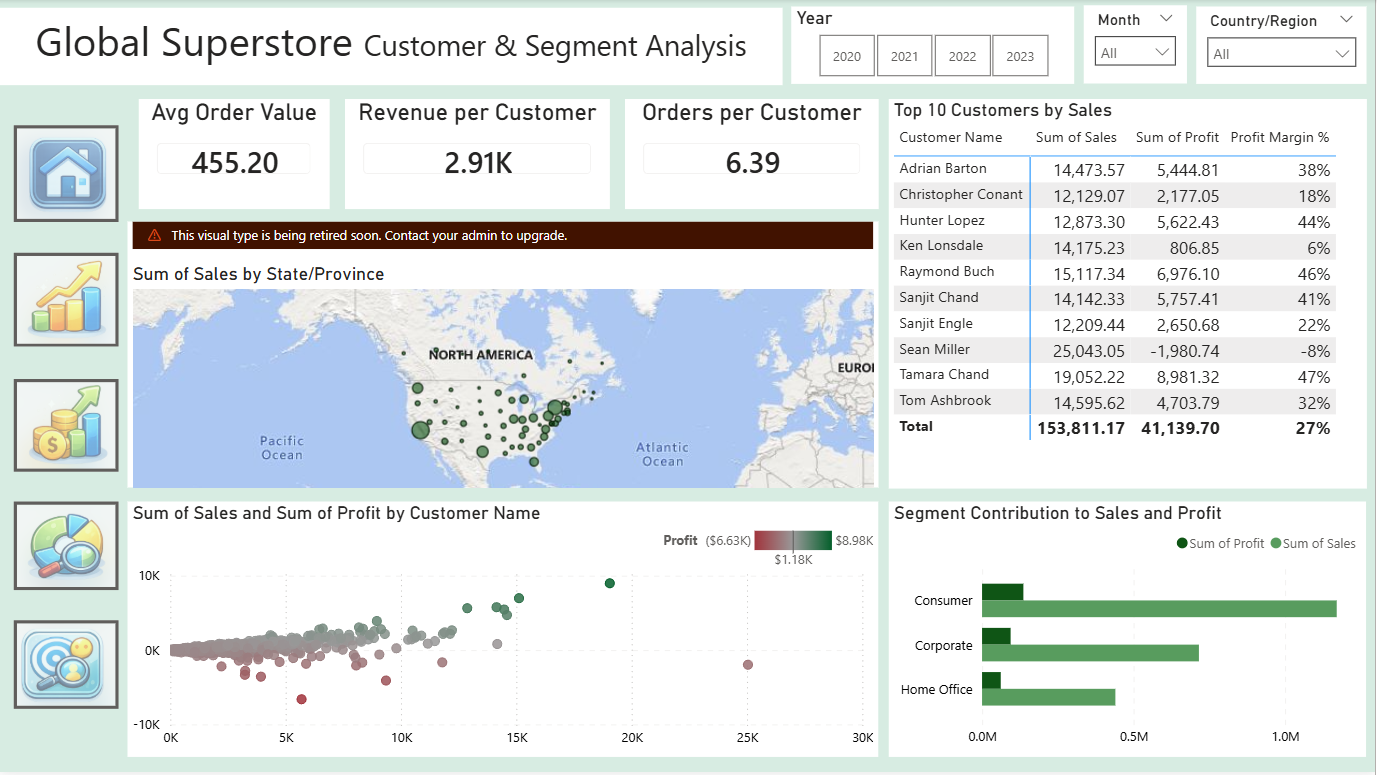

What the dashboard file says about the page in this screenshot:
{"tool":"powerbi","page":{"name":"Page 4","canvas":[1280,720],"ordinal":4},"visuals":[{"type":"pivotTable","title":"Top 10 Customers by Sales","fields":{"Values":["Sum(orders.Sales)","Sum(orders.Profit)","Key_Measure.Profit Margin %"],"Rows":["orders.Customer Name"]},"box":[826.2,92.5,445,362.5],"z":0},{"type":"map","fields":{"Category":["orders.State/Province"],"Size":["Sum(orders.Sales)"]},"box":[118.8,207.5,698.8,247.5],"z":1000},{"type":"scatterChart","fields":{"X":["Sum(orders.Sales)"],"Y":["Sum(orders.Profit)"],"Category":["orders.Customer Name"]},"box":[118.8,467.5,698.8,237.5],"z":2000},{"type":"textbox","box":[0,7.8,727.6,71.8],"z":3000},{"type":"slicer","fields":{"Values":["orders.Country/Region"]},"box":[1112.8,7.6,158.6,71.8],"z":4000},{"type":"slicer","fields":{"Values":["DateTable.Month"]},"box":[1008.3,6.3,95.7,73],"z":5000},{"type":"slicer","title":"Year","fields":{"Values":["DateTable.Year"]},"box":[736.4,7.6,263.1,71.8],"z":6000},{"type":"group","id":"g1","title":"Group 1","box":[12.5,117.5,97.5,542.5],"z":7000},{"type":"cardVisual","title":"Avg Order Value","fields":{"Data":["Key_Measure.Avg Order Value"]},"box":[128.8,92.5,177.5,102.5],"z":8000},{"type":"cardVisual","title":"Revenue per Customer","fields":{"Data":["Key_Measure.Avg Revenue per Customer"]},"box":[321.2,92.5,246.2,102.5],"z":9000},{"type":"actionButton","box":[12.5,117.5,97.5,90],"z":9000,"group":"g1"},{"type":"cardVisual","title":"Orders per Customer","fields":{"Data":["Key_Measure.Orders per Customer"]},"box":[581.2,92.5,236.2,102.5],"z":10000},{"type":"actionButton","box":[12.5,236.3,97.5,87.5],"z":10000,"group":"g1"},{"type":"actionButton","box":[12.5,353.7,97.5,86.2],"z":11000,"group":"g1"},{"type":"clusteredBarChart","title":"Segment Contribution to Sales and Profit","fields":{"Y":["Sum(orders.Profit)","Sum(orders.Sales)"],"Category":["orders.Segment"]},"box":[826.7,467.4,444.2,237.2],"z":11000},{"type":"actionButton","box":[12.5,467.5,97.5,82.5],"z":12000,"group":"g1"},{"type":"actionButton","box":[12.5,577.5,97.5,82.5],"z":13000,"group":"g1"}]}

Visuals, with their boxes in screenshot pixels (x1, y1, x2, y2), scaled from the page's 1280x720 canvas onto the 1377x775 screenshot:
"Top 10 Customers by Sales" pivotTable: (889, 100, 1368, 490)
map - orders.State/Province x Sum(orders.Sales): (128, 223, 880, 490)
scatterChart - Sum(orders.Sales) x Sum(orders.Profit): (128, 503, 880, 759)
textbox: (0, 8, 783, 86)
slicer - orders.Country/Region: (1197, 8, 1368, 85)
slicer - DateTable.Month: (1085, 7, 1188, 85)
"Year" slicer: (792, 8, 1075, 85)
"Group 1" group: (13, 126, 118, 710)
"Avg Order Value" cardVisual: (139, 100, 330, 210)
"Revenue per Customer" cardVisual: (346, 100, 610, 210)
actionButton: (13, 126, 118, 223)
"Orders per Customer" cardVisual: (625, 100, 879, 210)
actionButton: (13, 254, 118, 349)
actionButton: (13, 381, 118, 474)
"Segment Contribution to Sales and Profit" clusteredBarChart: (889, 503, 1367, 758)
actionButton: (13, 503, 118, 592)
actionButton: (13, 622, 118, 710)
